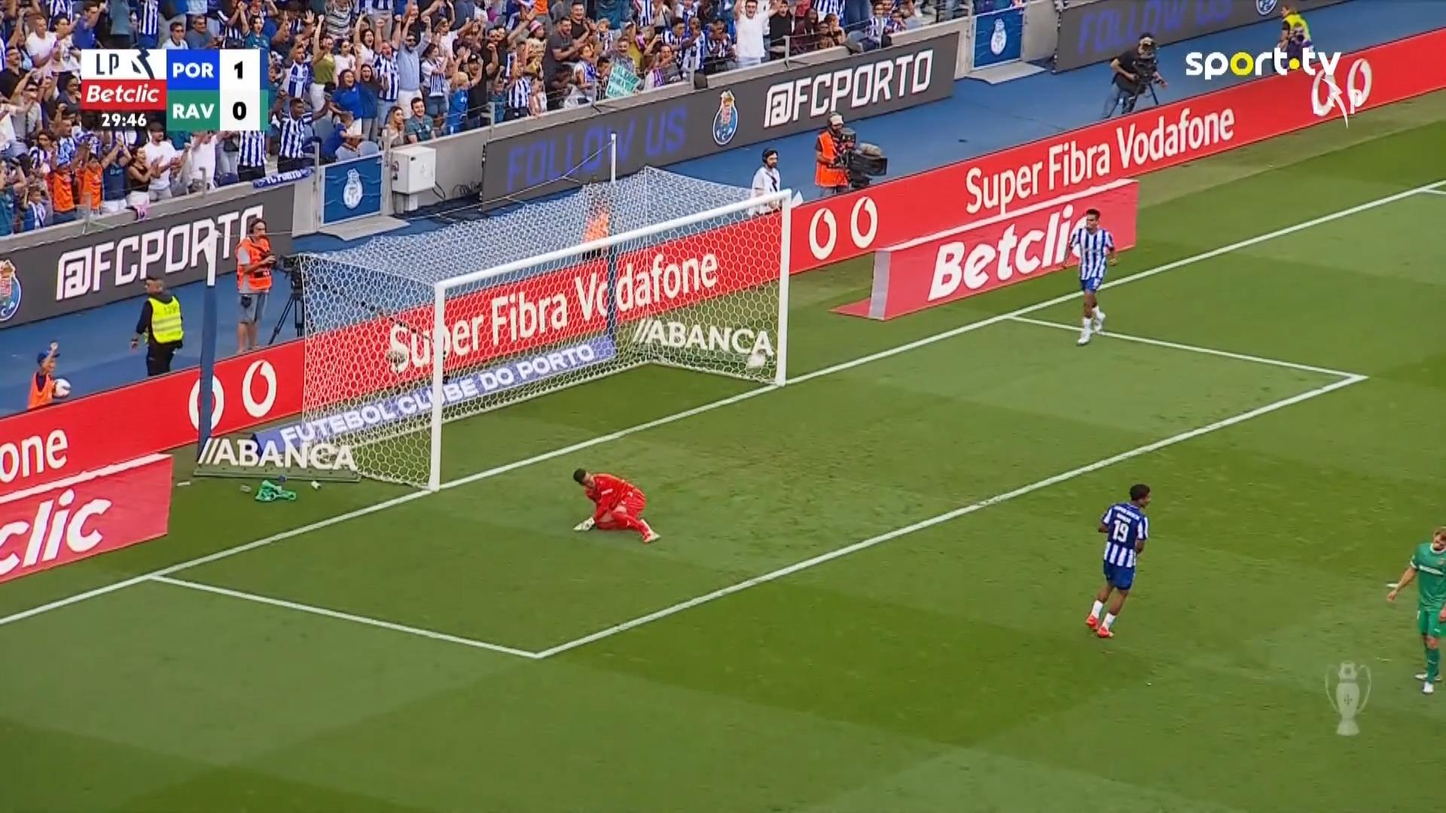ball: (746, 351, 766, 369), (310, 480, 319, 489)
goalkeeper: (571, 467, 660, 544)
player: (1084, 483, 1152, 638), (1385, 525, 1444, 694), (1058, 207, 1118, 346)
